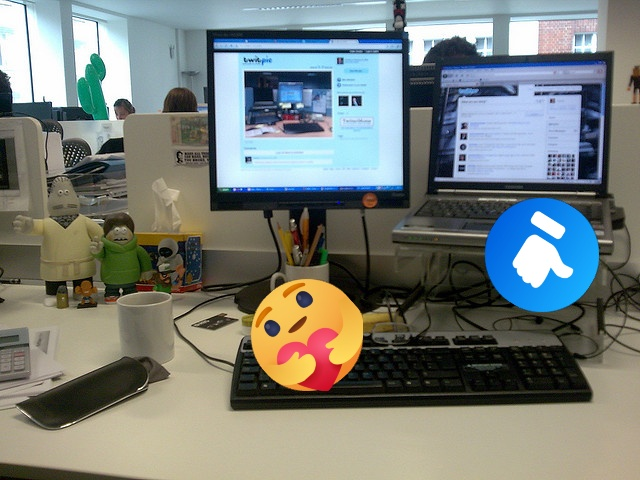care: (251, 279, 363, 391)
like: (485, 198, 599, 312)
